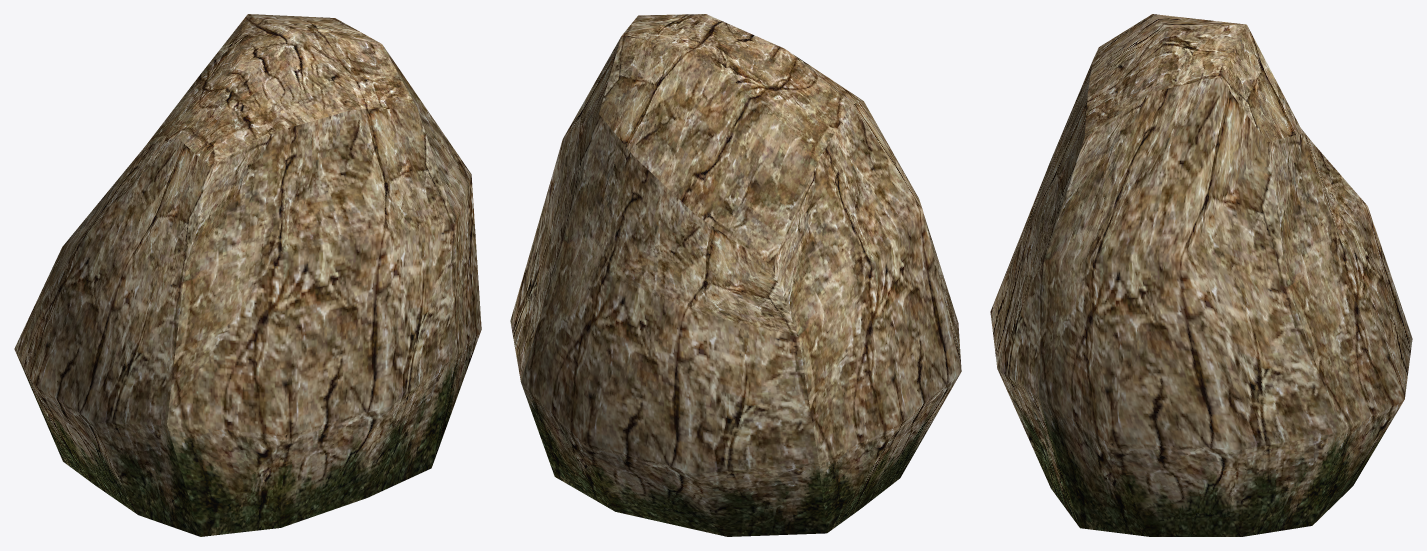
Rendered from rock05.glb.
3 renders of one model, left to right at view 1: azimuth 30°, elevation 25°; view 2: azimuth 150°, elevation 25°; view 3: azimuth 270°, elevation 25°, orthographic. The views are drawn at different scales.
Visible parts, largest first — view 1: rock05; view 2: rock05; view 3: rock05.
Boxes of the visible parts, x1,y1,x2,y2 form: rock05: (14,14,481,536); rock05: (510,14,961,536); rock05: (990,14,1412,536).
Size of the model in its own units: 4.6 by 4.85 by 4.06.
2 materials, 2 textured.
